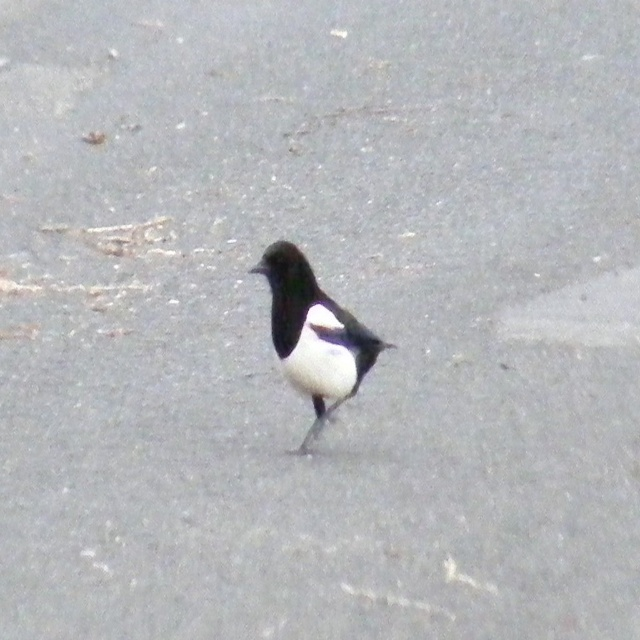Magpie: (247, 239, 398, 457)
